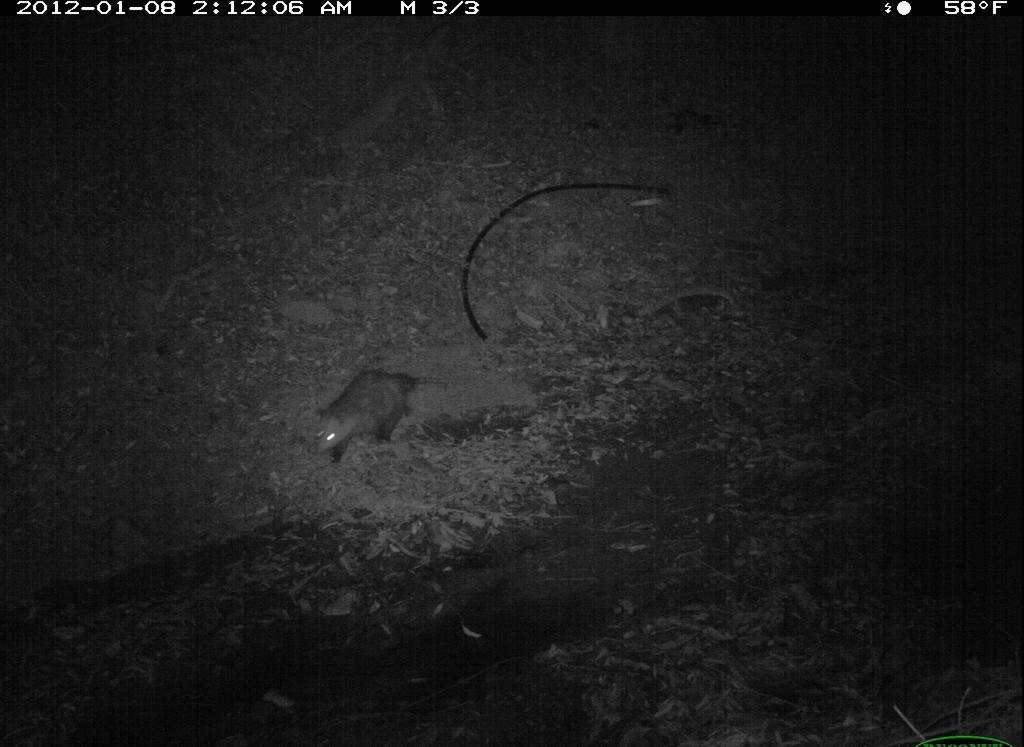opossum: (309, 360, 456, 479)
